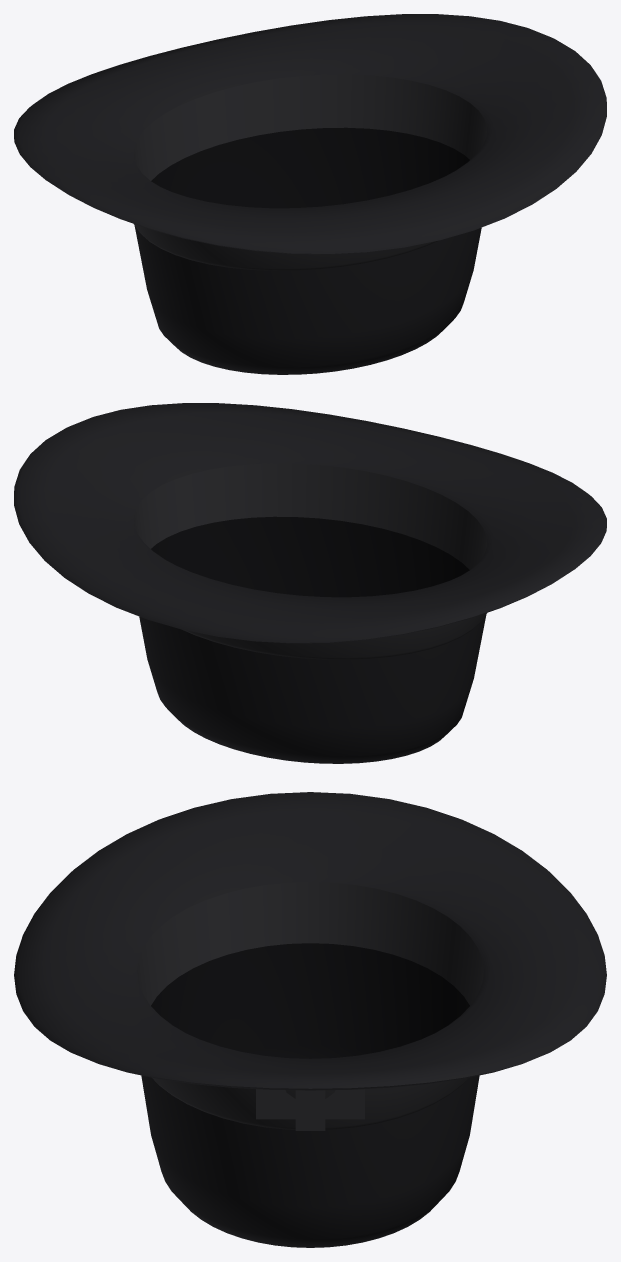
The model's file is worm_instr_tiphat.glb.
3 renders of one model, top to bottom at view 1: azimuth 30°, elevation 25°; view 2: azimuth 150°, elevation 25°; view 3: azimuth 270°, elevation 25°, orthographic. The views are drawn at different scales.
Parts seen in each view (by area): view 1: worm_instr_tiphat; view 2: worm_instr_tiphat; view 3: worm_instr_tiphat.
Part boxes in pixels (x1,y1,x2,y2): worm_instr_tiphat: (14, 14, 606, 374); worm_instr_tiphat: (14, 403, 606, 763); worm_instr_tiphat: (14, 792, 606, 1247).
Bounding box in the file's own units: 0.333 × 0.1281 × 0.2822.
3 materials, 3 textured.
